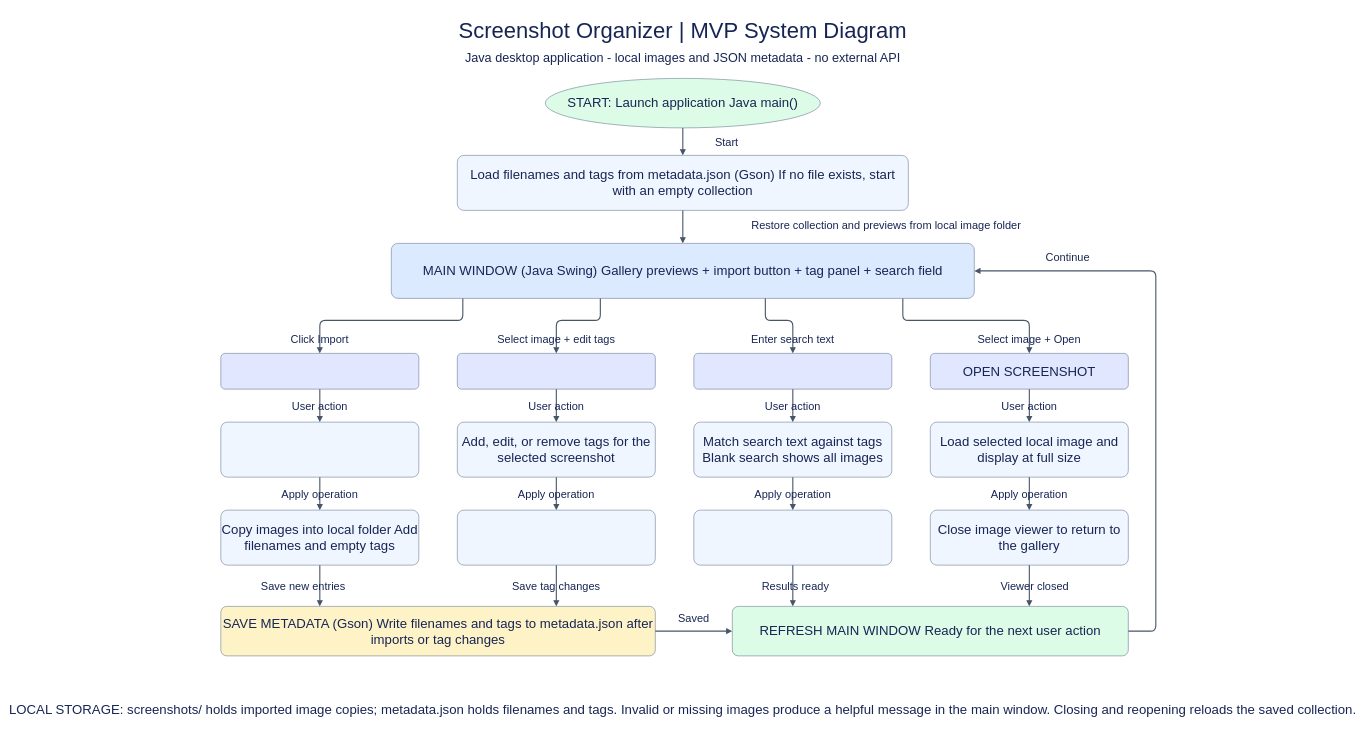
Some shapes in this 1366 by 742 pixel diagram are drawn without their labels. The shapes that lost their labels are listed below. From the top down, each one's box as (x1, y1, x2, y2) in pixels, then its label:
(220, 353, 419, 389): IMPORT SCREENSHOTS
(457, 353, 655, 389): MANAGE TAGS
(693, 353, 892, 389): SEARCH BY TAG
(220, 422, 419, 477): JFileChooser: select PNG/JPG Validate image using ImageIO
(457, 510, 655, 565): Update tags in the in-memory collection
(693, 510, 892, 565): Display matching screenshots in the gallery
